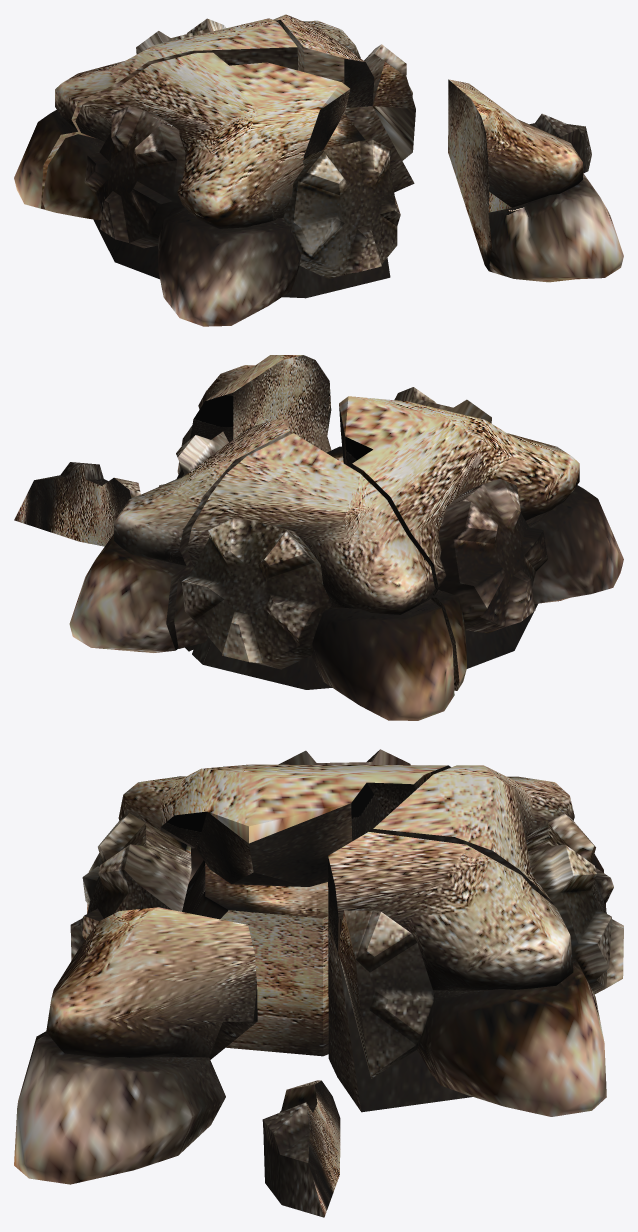
Rendered from TRP_Colum 05.FBX.
The picture shows the model from 3 angles, top to bottom: view 1: azimuth 30°, elevation 25°; view 2: azimuth 150°, elevation 25°; view 3: azimuth 270°, elevation 25°; orthographic projection. The views are drawn at different scales.
Parts seen in each view (by area): view 1: TRP Colum A_05; view 2: TRP Colum A_05; view 3: TRP Colum A_05.
Boxes of the visible parts, x1,y1,x2,y2 form: TRP Colum A_05: (14,14,623,326); TRP Colum A_05: (14,355,623,720); TRP Colum A_05: (14,749,623,1217).
Size of the model in its own units: 28 by 23.33 by 9.94.
Materials: 1 (1 with a texture image).
